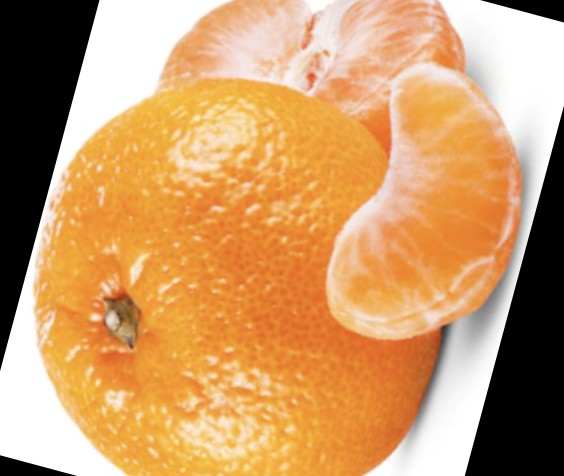fresh_orange: (28, 77, 443, 476)
